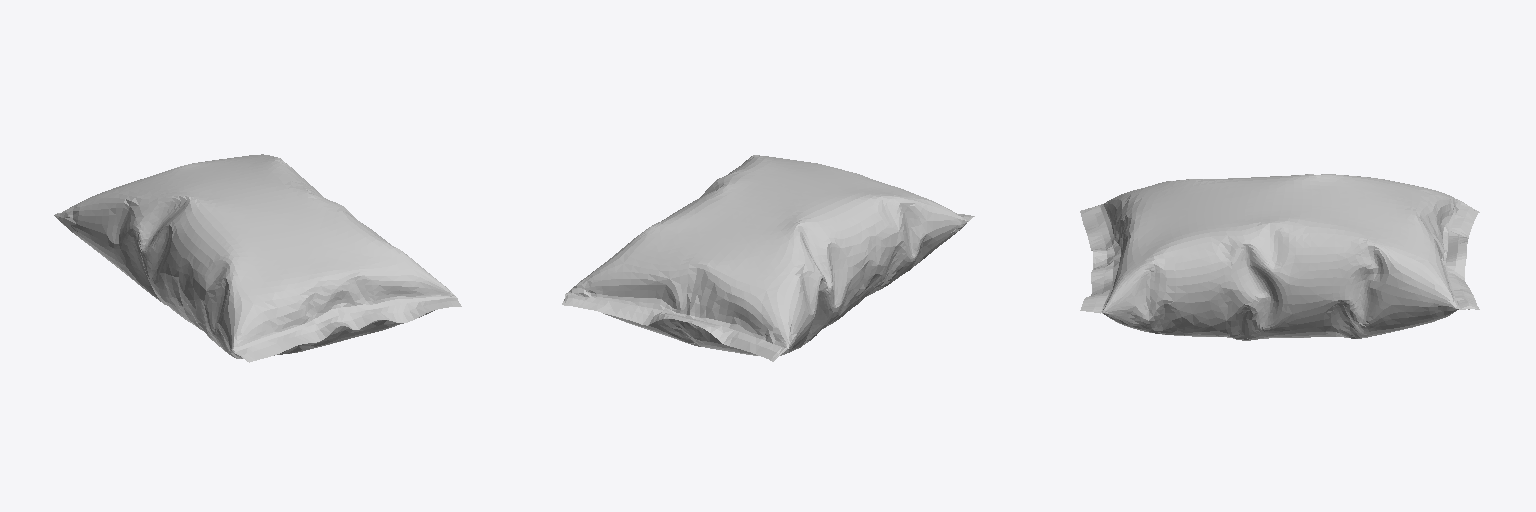
File: doritos.obj
3 renders of one model, left to right at view 1: azimuth 30°, elevation 25°; view 2: azimuth 150°, elevation 25°; view 3: azimuth 270°, elevation 25°, orthographic.
Parts seen in each view (by area): view 1: ChipBag_F01; view 2: ChipBag_F01; view 3: ChipBag_F01.
Part boxes in pixels (bbox=[...]): ChipBag_F01: bbox=[54, 154, 461, 362]; ChipBag_F01: bbox=[562, 155, 974, 361]; ChipBag_F01: bbox=[1080, 174, 1479, 340].
Size of the model in its own units: 19.2 by 9.42 by 29.73.